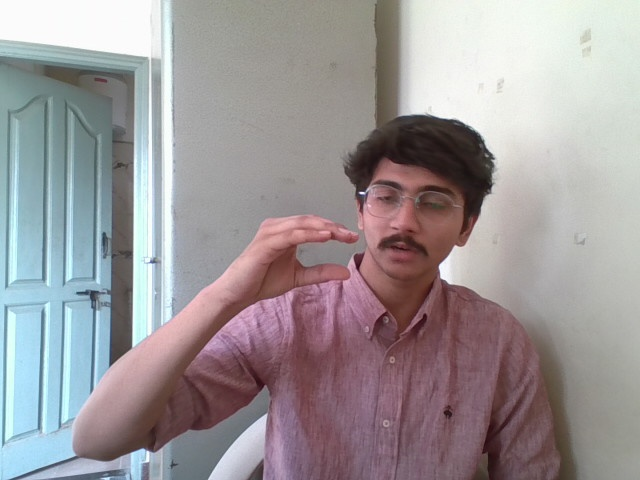no: (210, 203, 363, 292)
